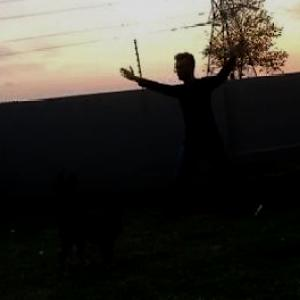takeoff: (118, 40, 255, 214)
